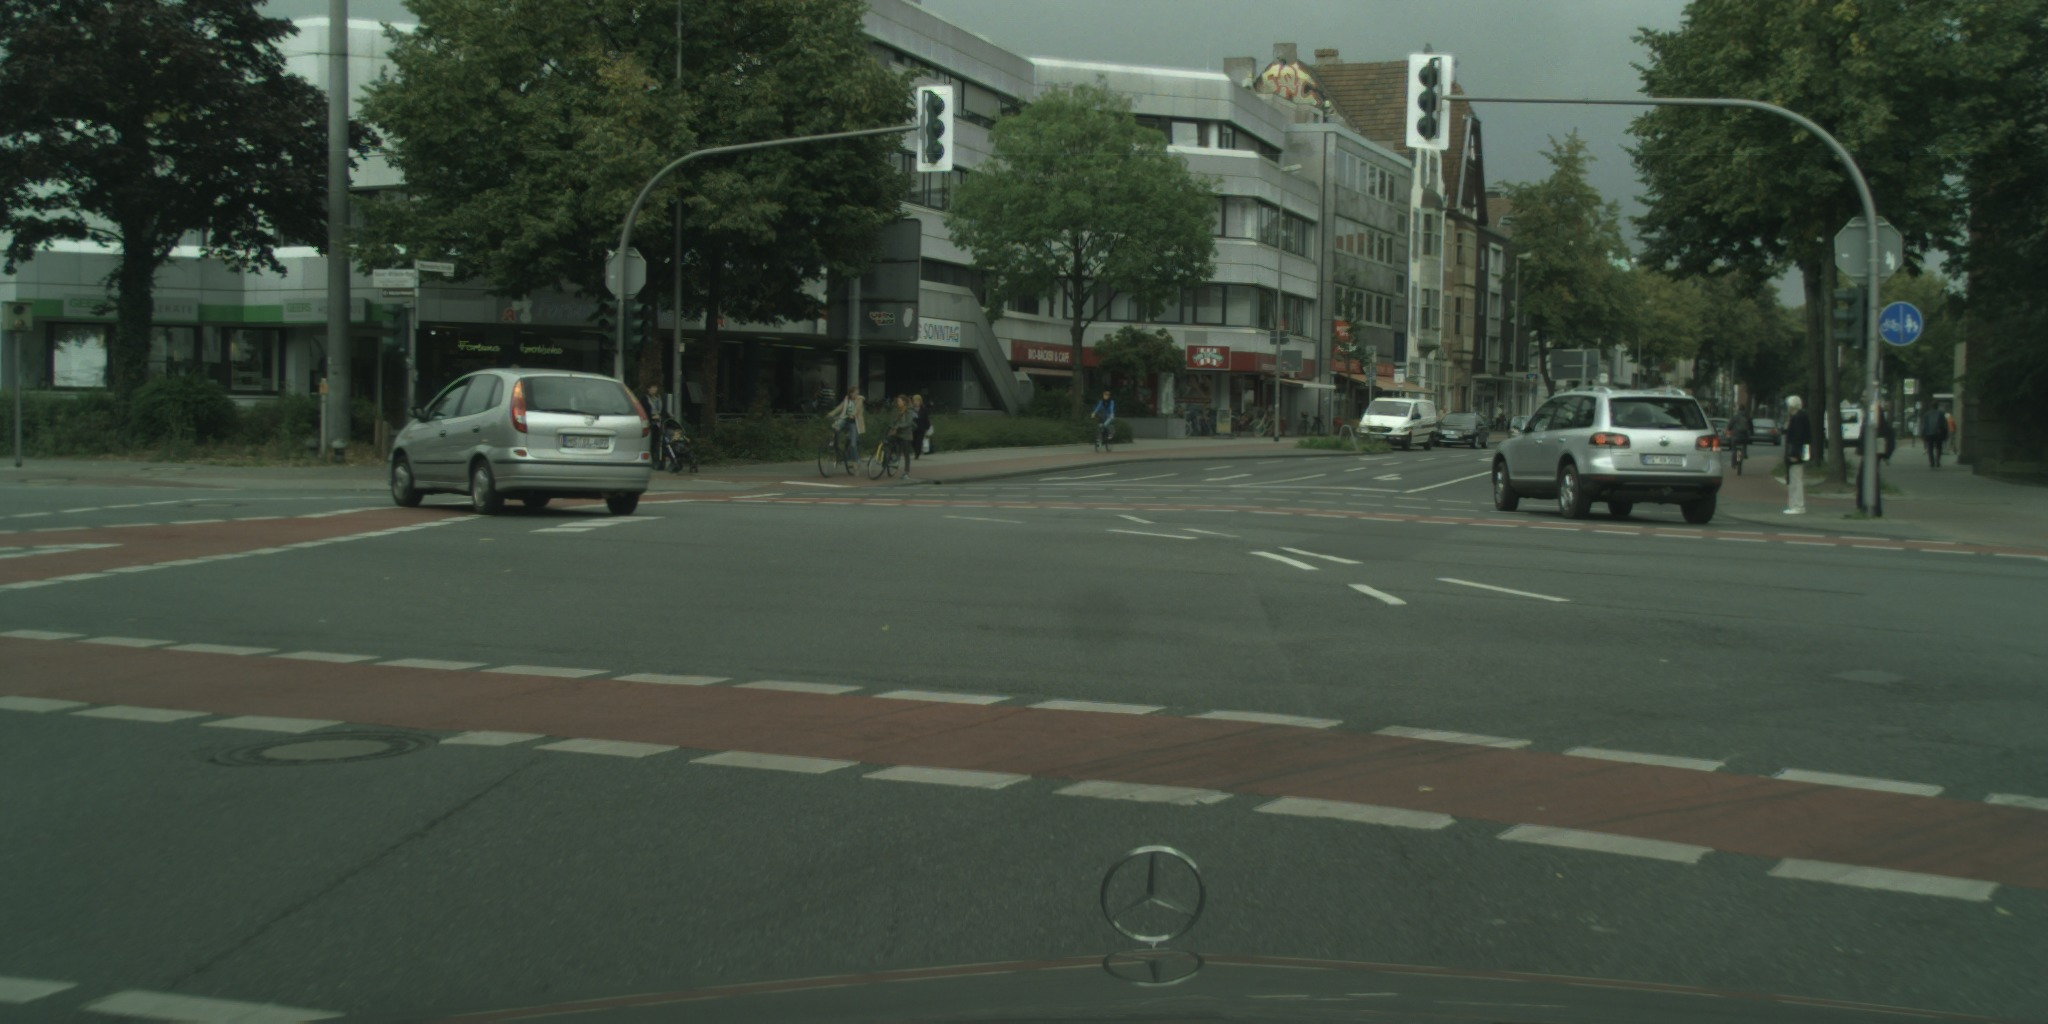bicycle: (818, 420, 864, 479), (865, 417, 902, 482), (1091, 416, 1119, 456), (1732, 442, 1743, 475), (1311, 415, 1325, 437), (1298, 411, 1308, 435)
car: (390, 366, 656, 517), (1490, 386, 1722, 525), (1352, 396, 1437, 451), (1430, 411, 1489, 449), (1820, 406, 1866, 448), (1744, 418, 1781, 447), (1702, 418, 1735, 450), (1508, 414, 1538, 443)
person: (1855, 386, 1894, 517), (1782, 395, 1811, 517), (885, 392, 912, 481), (639, 380, 663, 472), (1920, 400, 1949, 469), (908, 394, 931, 462), (809, 376, 839, 422), (1939, 410, 1957, 457), (1491, 403, 1506, 431), (1435, 405, 1451, 427)
rider: (826, 385, 866, 470), (1726, 402, 1754, 469), (1090, 390, 1117, 440)
